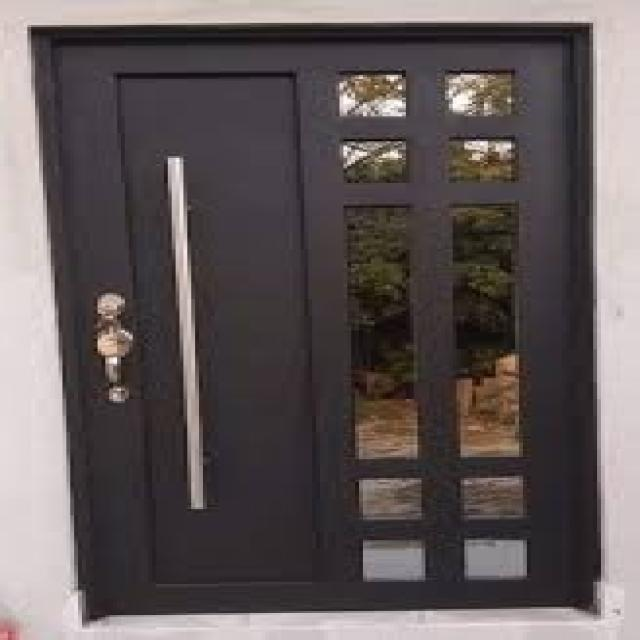door: (35, 25, 597, 617)
